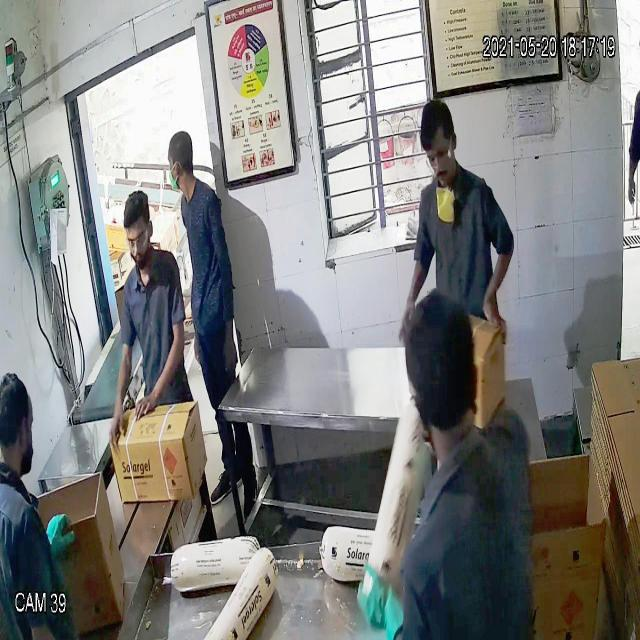glasses: (419, 140, 458, 170), (122, 222, 150, 252)
